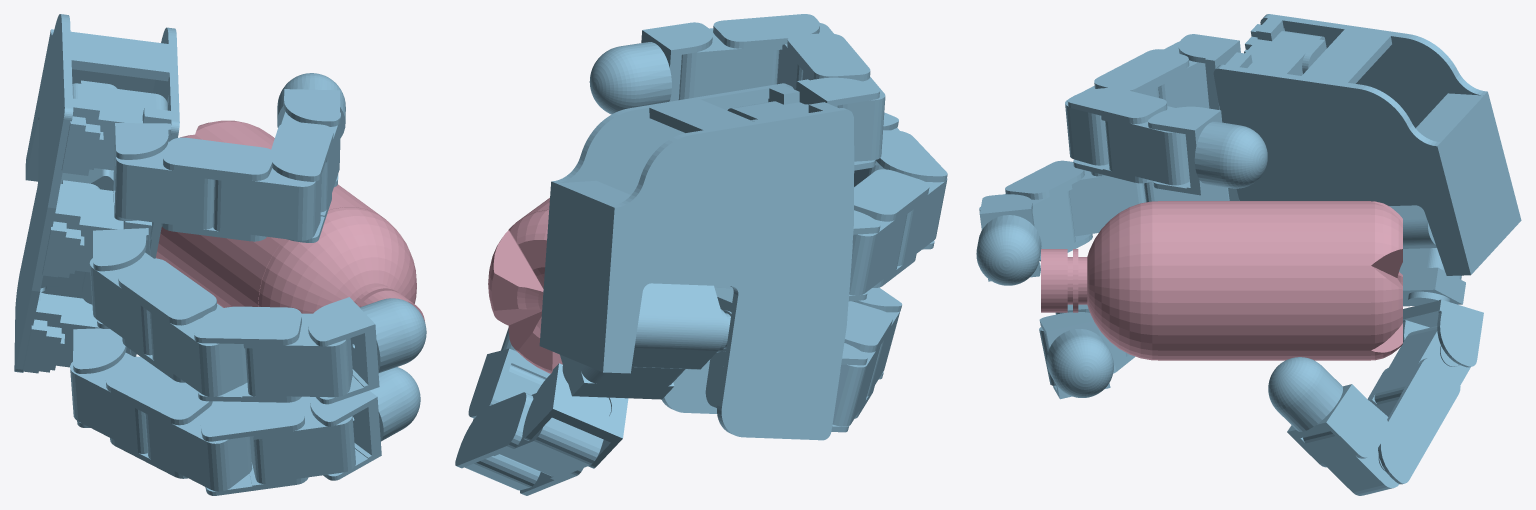
3 renders of one model, left to right at view 1: azimuth 30°, elevation 25°; view 2: azimuth 150°, elevation 25°; view 3: azimuth 270°, elevation 25°, orthographic. The views are drawn at different scales.
Parts seen in each view (by area): view 1: world; view 2: world; view 3: world.
Boxes of the visible parts, <box> form: world: <box>14,14,426,495</box>; world: <box>455,14,947,495</box>; world: <box>976,14,1521,495</box>.
Size of the model in its own units: 0.1335 by 0.1568 by 0.2057.
